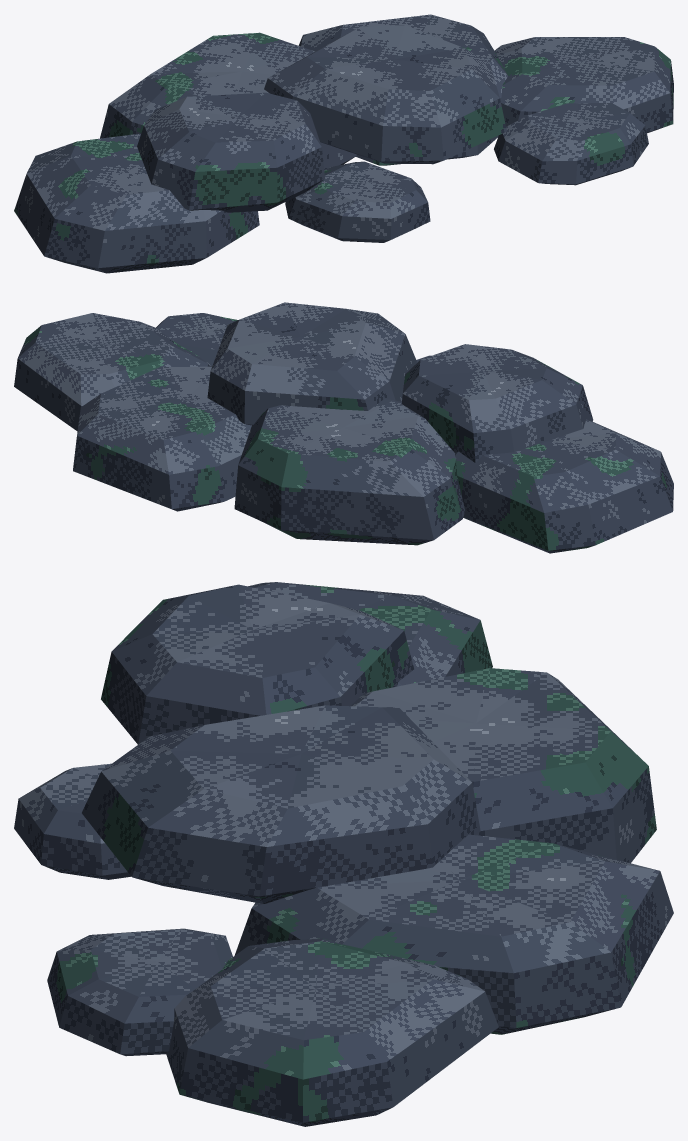
Rendered from SM_Prop_GalleryLowRubble_01.glb.
The picture shows the model from 3 angles, top to bottom: view 1: azimuth 30°, elevation 25°; view 2: azimuth 150°, elevation 25°; view 3: azimuth 270°, elevation 25°; orthographic projection. The views are drawn at different scales.
Parts seen in each view (by area): view 1: stone_rubble_4, stone_rubble_0, stone_rubble_5, stone_rubble_3, stone_rubble_1, stone_rubble_7, stone_rubble_6, stone_rubble_2; view 2: stone_rubble_1, stone_rubble_0, stone_rubble_4, stone_rubble_2, stone_rubble_5, stone_rubble_3, stone_rubble_7; view 3: stone_rubble_4, stone_rubble_2, stone_rubble_3, stone_rubble_5, stone_rubble_1, stone_rubble_7, stone_rubble_0, stone_rubble_6.
Boxes of the visible parts, left/top/right/bottom form: stone_rubble_4: left=264, top=25, right=506, bottom=164; stone_rubble_0: left=14, top=133, right=259, bottom=273; stone_rubble_5: left=137, top=92, right=324, bottom=212; stone_rubble_3: left=494, top=37, right=673, bottom=135; stone_rubble_1: left=100, top=32, right=356, bottom=169; stone_rubble_7: left=494, top=103, right=648, bottom=185; stone_rubble_6: left=285, top=161, right=430, bottom=242; stone_rubble_2: left=298, top=14, right=507, bottom=165; stone_rubble_1: left=234, top=399, right=464, bottom=545; stone_rubble_0: left=455, top=419, right=673, bottom=553; stone_rubble_4: left=207, top=302, right=416, bottom=425; stone_rubble_2: left=73, top=366, right=251, bottom=511; stone_rubble_5: left=402, top=344, right=593, bottom=462; stone_rubble_3: left=14, top=313, right=209, bottom=431; stone_rubble_7: left=156, top=313, right=237, bottom=366; stone_rubble_4: left=82, top=705, right=480, bottom=903; stone_rubble_2: left=234, top=834, right=673, bottom=1034; stone_rubble_3: left=166, top=938, right=498, bottom=1126; stone_rubble_5: left=101, top=584, right=413, bottom=744; stone_rubble_1: left=350, top=668, right=656, bottom=863; stone_rubble_7: left=47, top=928, right=232, bottom=1056; stone_rubble_0: left=248, top=582, right=492, bottom=686; stone_rubble_6: left=14, top=763, right=130, bottom=879.
Bounding box in the file's own units: 1.44 × 0.2409 × 0.7975.
Materials: 1 (1 with a texture image).
